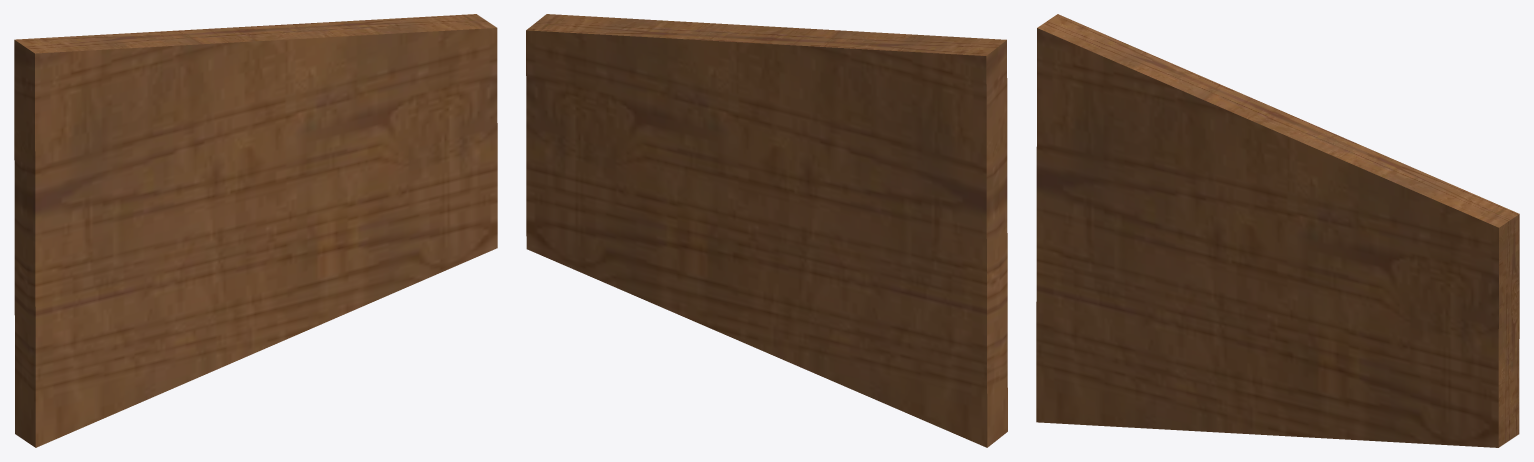
File: pm-wood-details.glb
3 views of the same model, side by side, from view 1: azimuth 30°, elevation 25°; view 2: azimuth 150°, elevation 25°; view 3: azimuth 330°, elevation 25° (orthographic).
Visible parts, largest first — view 1: WoodDetails; view 2: WoodDetails; view 3: WoodDetails.
Part boxes in pixels (x1,y1,x2,y2): WoodDetails: [14, 14, 497, 447]; WoodDetails: [526, 14, 1007, 447]; WoodDetails: [1036, 14, 1519, 447].
Bounding box in the file's own units: 0.9371 × 0.7654 × 0.0757.
1 material, 1 textured.
